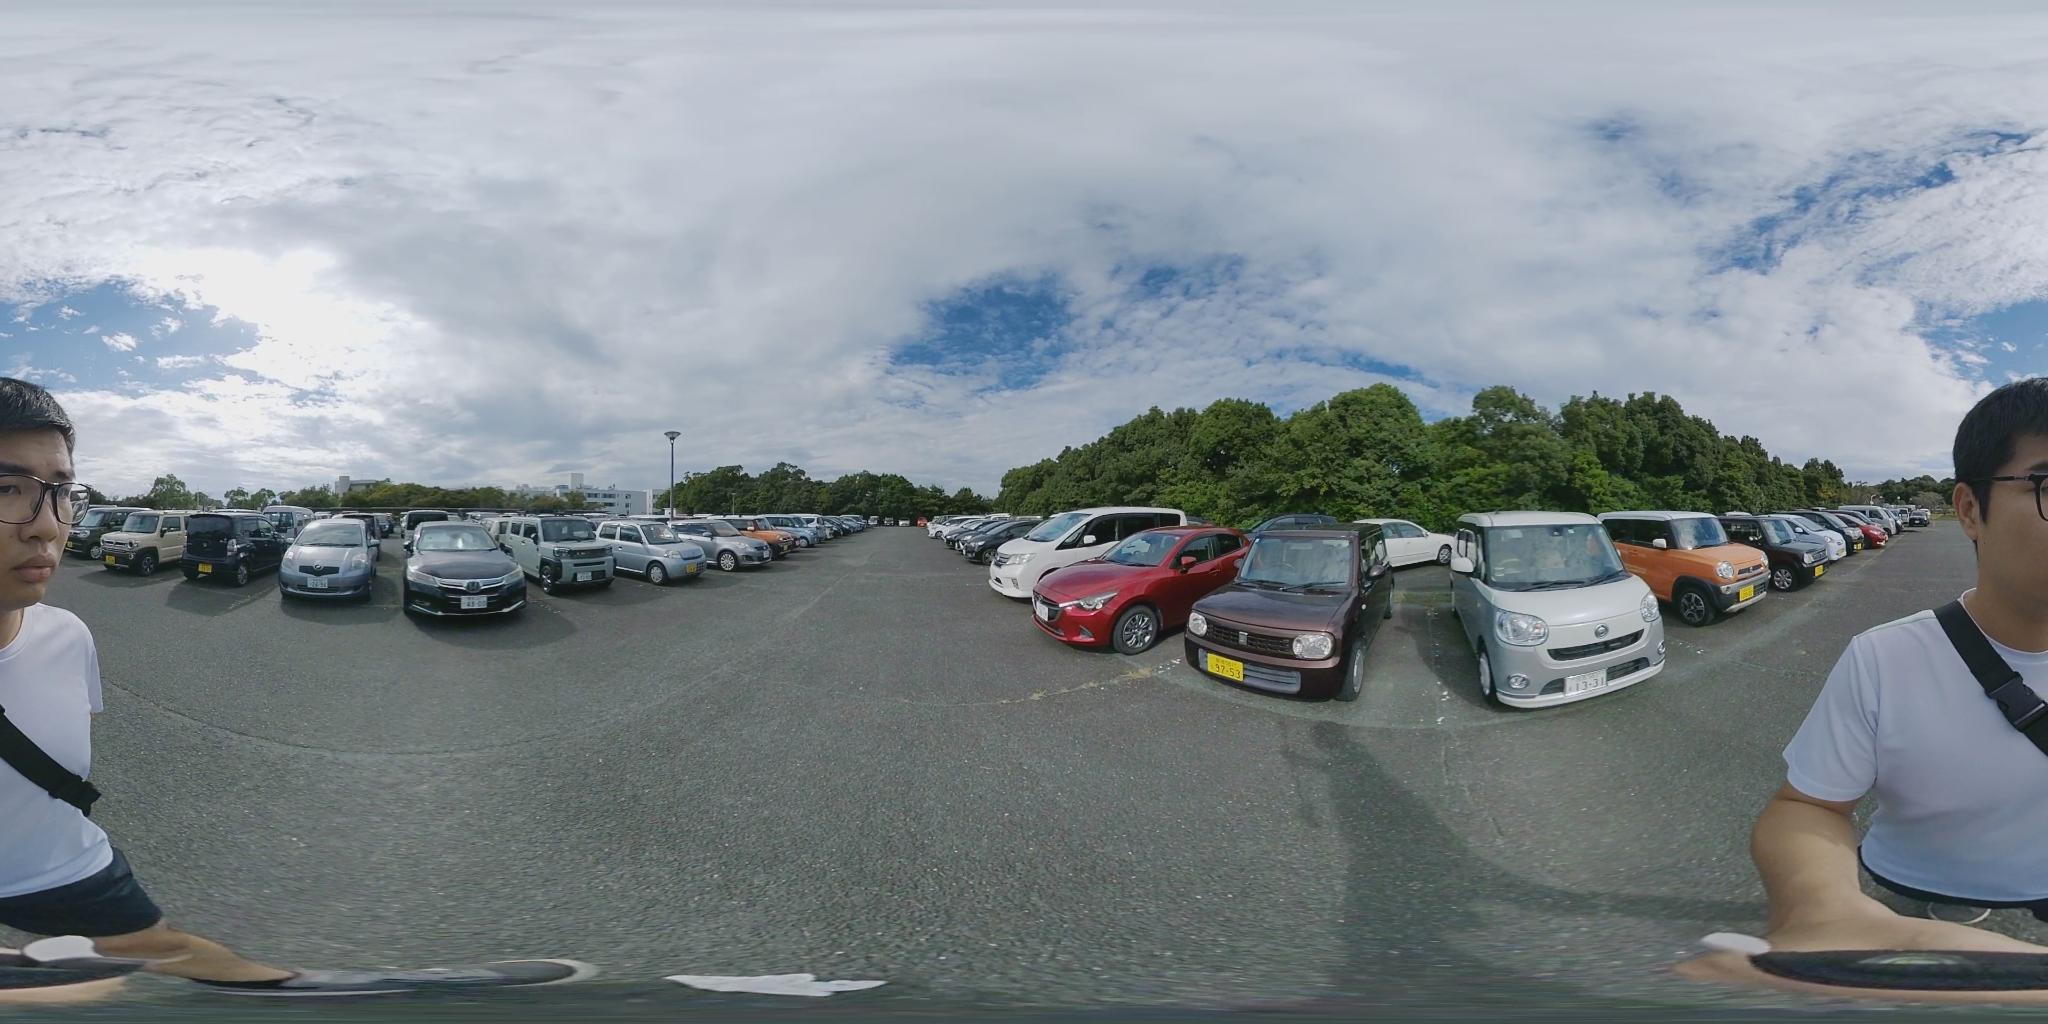car: (1451, 507, 1655, 711), (1190, 522, 1388, 694), (1031, 525, 1263, 656), (978, 505, 1196, 602), (1599, 512, 1775, 626), (405, 522, 537, 619), (1728, 515, 1847, 581), (592, 520, 713, 583), (67, 507, 188, 567), (930, 516, 1032, 558), (1796, 512, 1869, 554), (739, 517, 827, 550), (1832, 509, 1894, 550), (1844, 503, 1916, 536), (1896, 505, 1928, 526)
